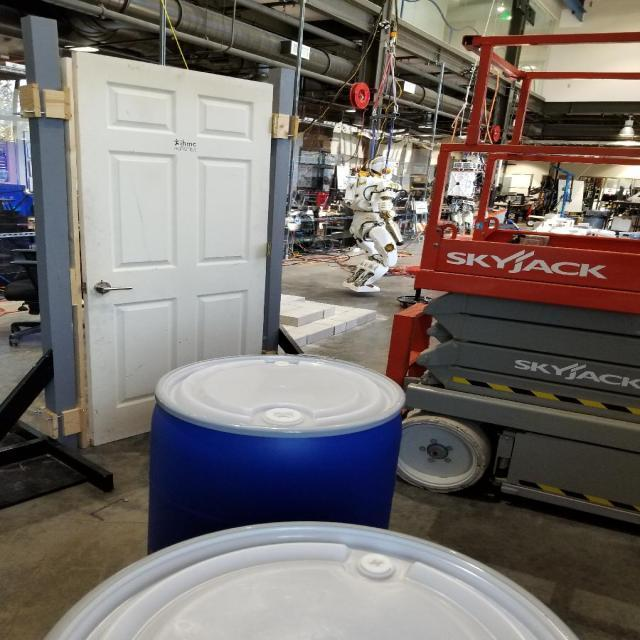door: (67, 47, 276, 450), (87, 279, 138, 297)
